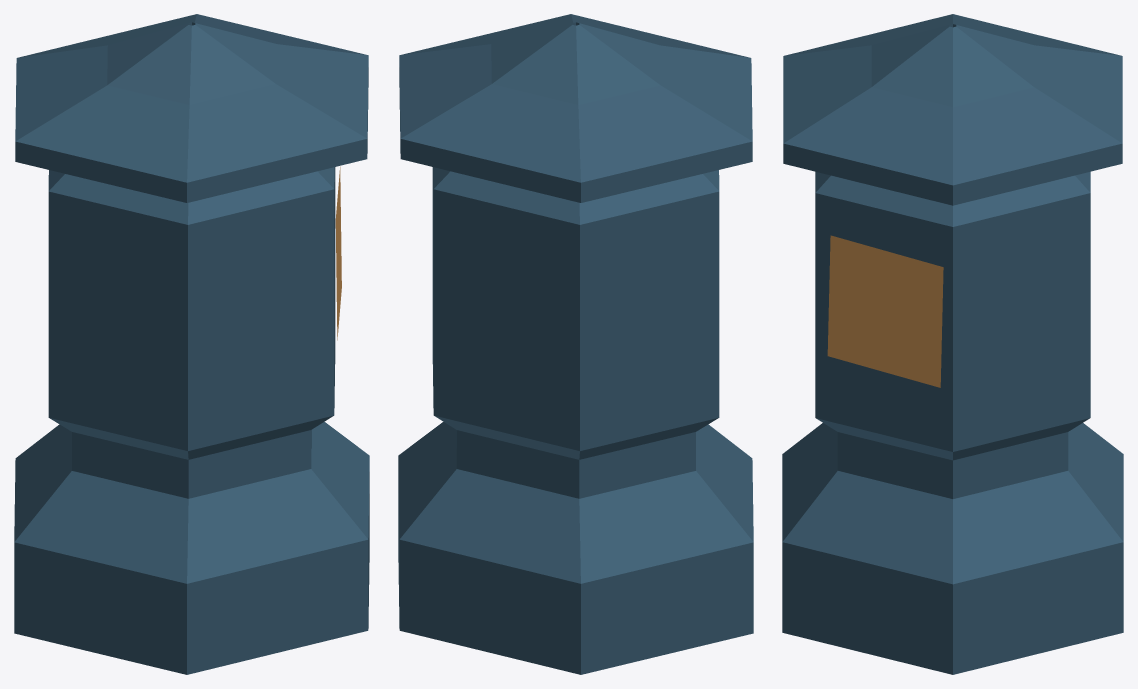
File: LIGHT.fbx
3 renders of one model, left to right at view 1: azimuth 30°, elevation 25°; view 2: azimuth 150°, elevation 25°; view 3: azimuth 270°, elevation 25°, orthographic.
Parts seen in each view (by area): view 1: Cube, Plane; view 2: Cube; view 3: Cube, Plane.
Part boxes in pixels (x1,y1,x2,y2): Cube: (14,14,369,674); Plane: (335,166,341,340); Cube: (398,14,753,674); Cube: (782,14,1123,674); Plane: (827,235,943,387).
Bounding box in the file's own units: 486 × 739 × 406.
